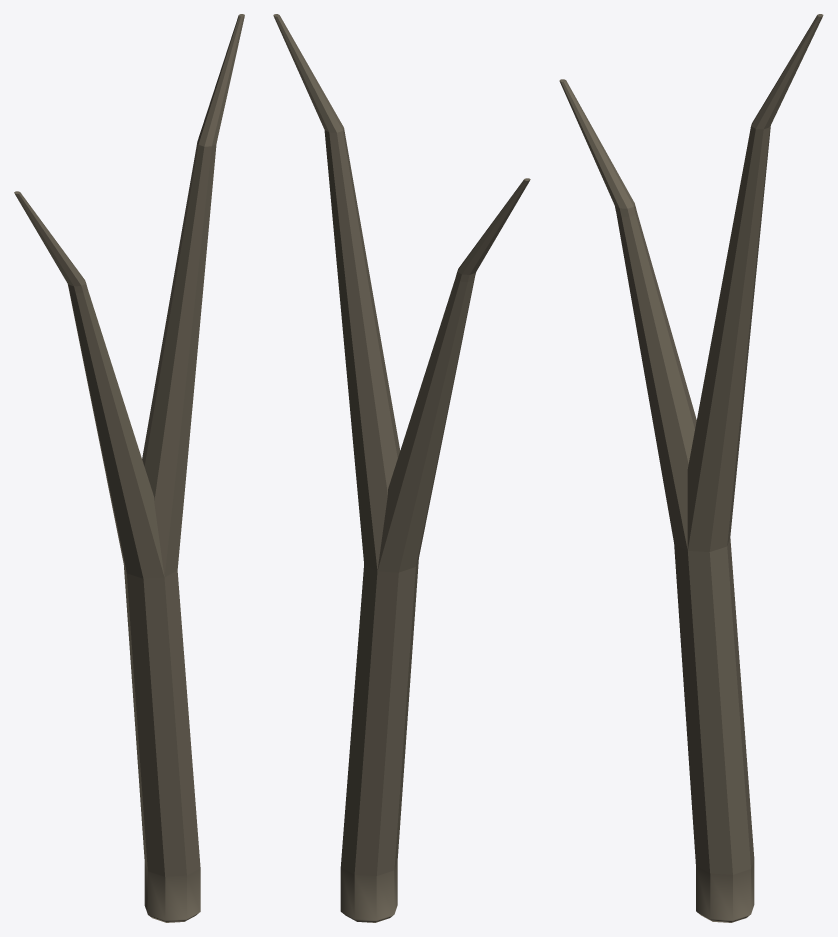
The model's file is LogCayGoiDau2.fbx.
3 renders of one model, left to right at view 1: azimuth 30°, elevation 25°; view 2: azimuth 150°, elevation 25°; view 3: azimuth 330°, elevation 25°, orthographic. The views are drawn at different scales.
Parts seen in each view (by area): view 1: Trunk, Trunk.001; view 2: Trunk, Trunk.001; view 3: Trunk, Trunk.001.
Part boxes in pixels (bbox=[...]): Trunk: bbox=[124, 14, 244, 922]; Trunk.001: bbox=[14, 191, 164, 578]; Trunk: bbox=[273, 14, 418, 922]; Trunk.001: bbox=[377, 178, 530, 572]; Trunk: bbox=[674, 14, 823, 922]; Trunk.001: bbox=[559, 79, 696, 550].
Bounding box in the file's own units: 1123 × 3873 × 231.
